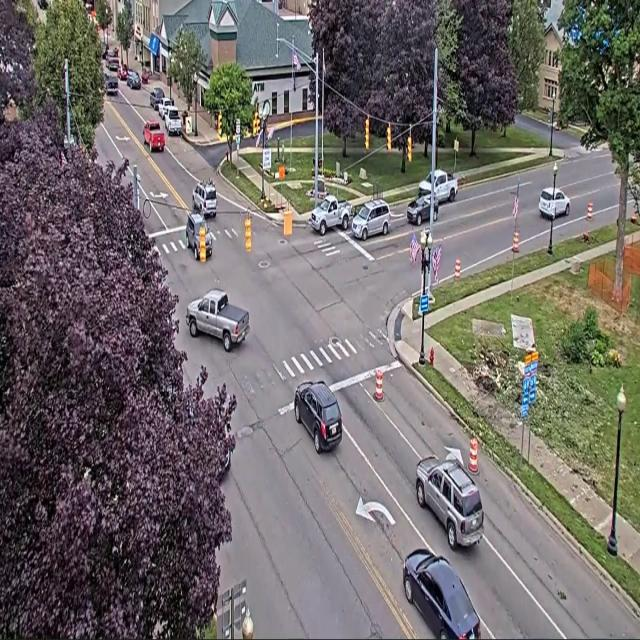car: (403, 549, 480, 639), (416, 456, 483, 549), (294, 381, 342, 454), (352, 200, 390, 240), (186, 211, 213, 260), (192, 180, 217, 217), (539, 188, 569, 218), (407, 195, 430, 225), (219, 450, 231, 480), (157, 97, 173, 119), (150, 88, 164, 111), (127, 70, 141, 89), (107, 55, 119, 71), (118, 64, 128, 80), (141, 69, 150, 84), (38, 0, 48, 10)
traffic signal: (245, 216, 251, 252), (252, 111, 260, 137), (407, 133, 412, 162), (365, 117, 369, 149), (387, 125, 391, 151), (218, 112, 222, 136)
truck: (187, 289, 249, 351), (310, 195, 352, 235), (434, 170, 457, 202), (144, 121, 165, 151), (164, 106, 181, 135), (105, 76, 118, 95)
